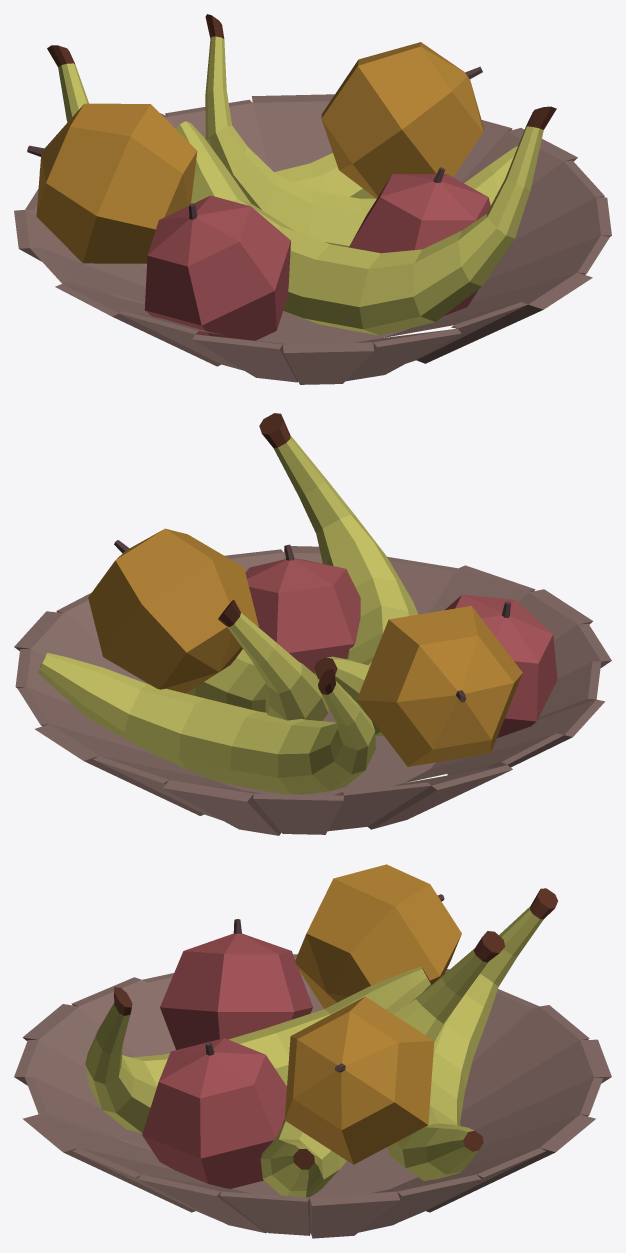
The model's file is Gammal_Fruktskål.fbx.
3 views of the same model, one above another, from view 1: azimuth 30°, elevation 25°; view 2: azimuth 150°, elevation 25°; view 3: azimuth 270°, elevation 25° (orthographic).
Parts seen in each view (by area): view 1: pasted__pCylinder17, pCube157, pSphere5, pSphere4, pSphere3, pCube156, pSphere2, pCube155; view 2: pasted__pCylinder17, pCube155, pSphere4, pSphere5, pCube157, pSphere2, pCube156, pSphere3; view 3: pasted__pCylinder17, pSphere4, pSphere2, pSphere5, pSphere3, pCube155, pCube157, pCube156.
Boxes of the visible parts, bbox=[...] form: pasted__pCylinder17: bbox=[14, 94, 611, 384]; pCube157: bbox=[175, 106, 556, 335]; pSphere5: bbox=[27, 103, 197, 263]; pSphere4: bbox=[321, 42, 483, 198]; pSphere3: bbox=[144, 195, 290, 340]; pCube156: bbox=[205, 14, 517, 247]; pSphere2: bbox=[349, 167, 490, 315]; pCube155: bbox=[47, 45, 374, 198]; pasted__pCylinder17: bbox=[14, 546, 611, 835]; pCube155: bbox=[38, 653, 375, 794]; pSphere4: bbox=[88, 528, 258, 693]; pSphere5: bbox=[357, 606, 522, 766]; pCube157: bbox=[259, 413, 418, 736]; pSphere2: bbox=[245, 544, 360, 674]; pCube156: bbox=[186, 600, 328, 720]; pSphere3: bbox=[445, 594, 557, 738]; pasted__pCylinder17: bbox=[14, 954, 611, 1238]; pSphere4: bbox=[284, 996, 434, 1164]; pSphere2: bbox=[142, 1038, 286, 1188]; pSphere5: bbox=[295, 864, 461, 1008]; pSphere3: bbox=[160, 919, 312, 1049]; pCube155: bbox=[387, 888, 557, 1180]; pCube157: bbox=[85, 966, 431, 1132]; pCube156: bbox=[260, 931, 505, 1197].
Bounding box in the file's own units: 1.99 × 0.9297 × 2.
